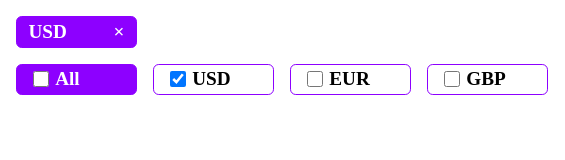
Test: CurrencySelection › should unselect item by clicking remove button
Expected: the number of elements with class "CurrencySelection_selectedItem" is 1, [16,16,137,48]
Click the text with class "CurrencySelection_selectedItem__close" at {"x": 119, "y": 32}, box [114,21,124,43]
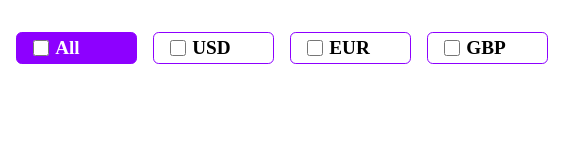
Now no elements with class "CurrencySelection_selectedItem" are shown
